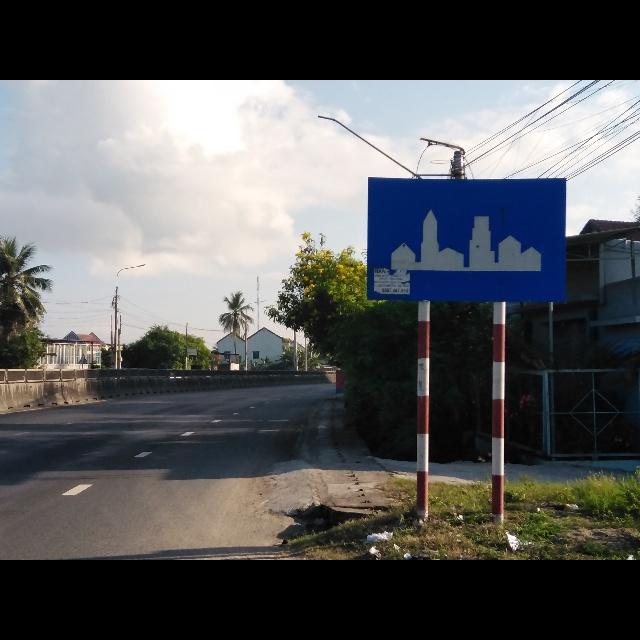Khu đông dân cư: (364, 175, 568, 305)
